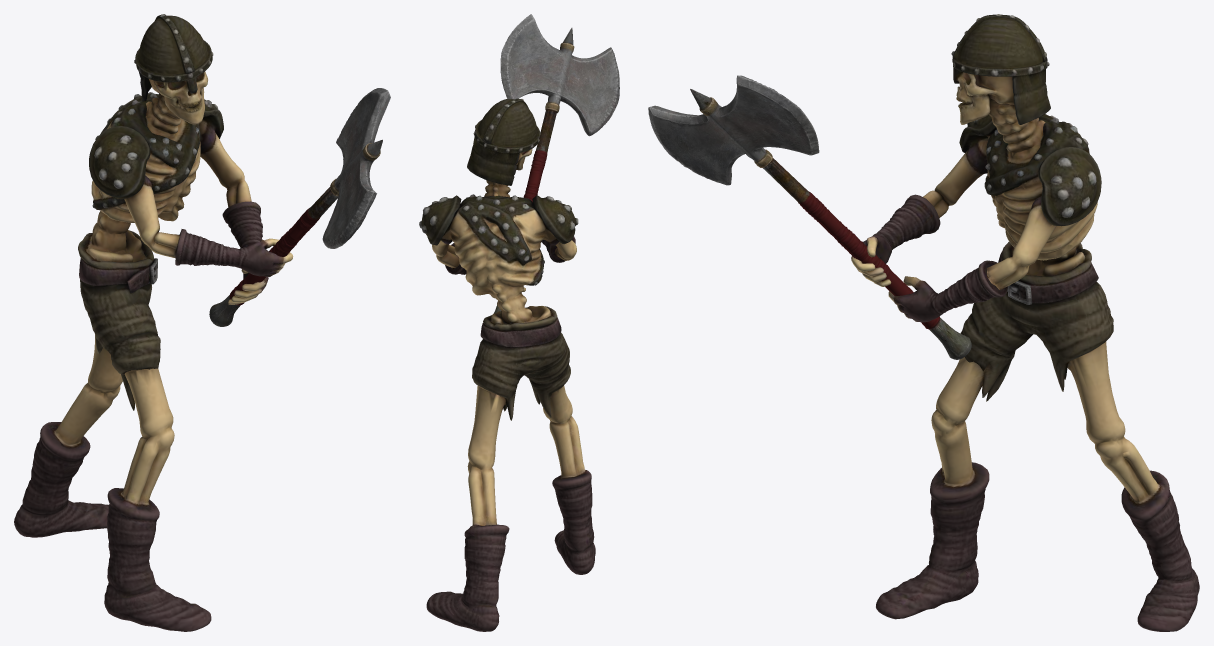
File: MZ4250 - Skeleton_greataxe.glb
The picture shows the model from 3 angles, left to right: view 1: azimuth 30°, elevation 25°; view 2: azimuth 150°, elevation 25°; view 3: azimuth 270°, elevation 25°; orthographic projection. The views are drawn at different scales.
Parts seen in each view (by area): view 1: Skeleton_Updated_posed.002; view 2: Skeleton_Updated_posed.002; view 3: Skeleton_Updated_posed.002.
Boxes of the visible parts, x1=… form: Skeleton_Updated_posed.002: x1=14, y1=14, x2=390, y2=631; Skeleton_Updated_posed.002: x1=419, y1=14, x2=619, y2=631; Skeleton_Updated_posed.002: x1=648, y1=14, x2=1199, y2=631.
Bounding box in the file's own units: 30.65 × 89.46 × 72.88.
2 materials, 2 textured.
